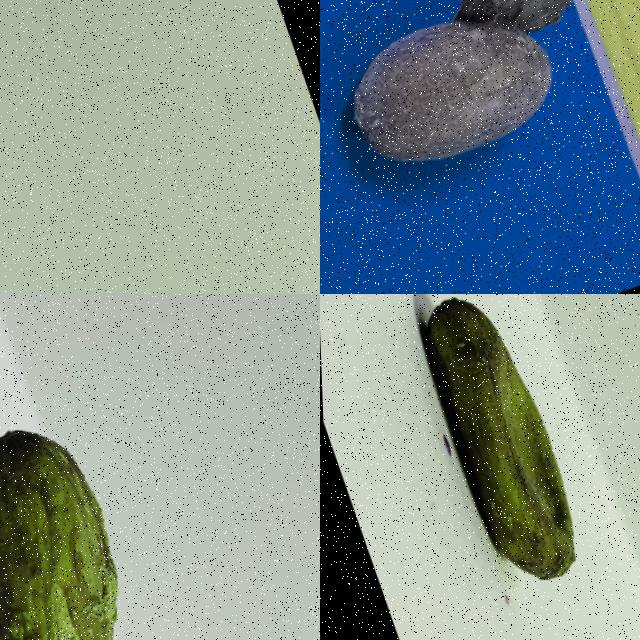Agglomerated_cocoabeans: (320, 0, 639, 259)
Fine_cocoabeans: (0, 294, 219, 639)
Flat_cocoabeans: (358, 294, 639, 639)
